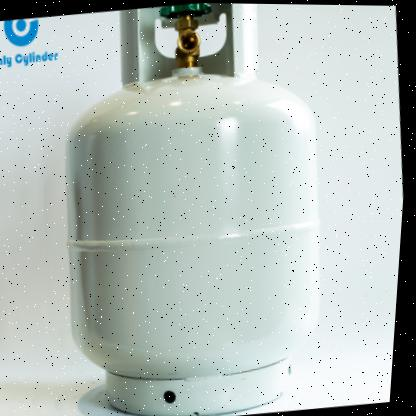gas-tank: (16, 0, 392, 415)
